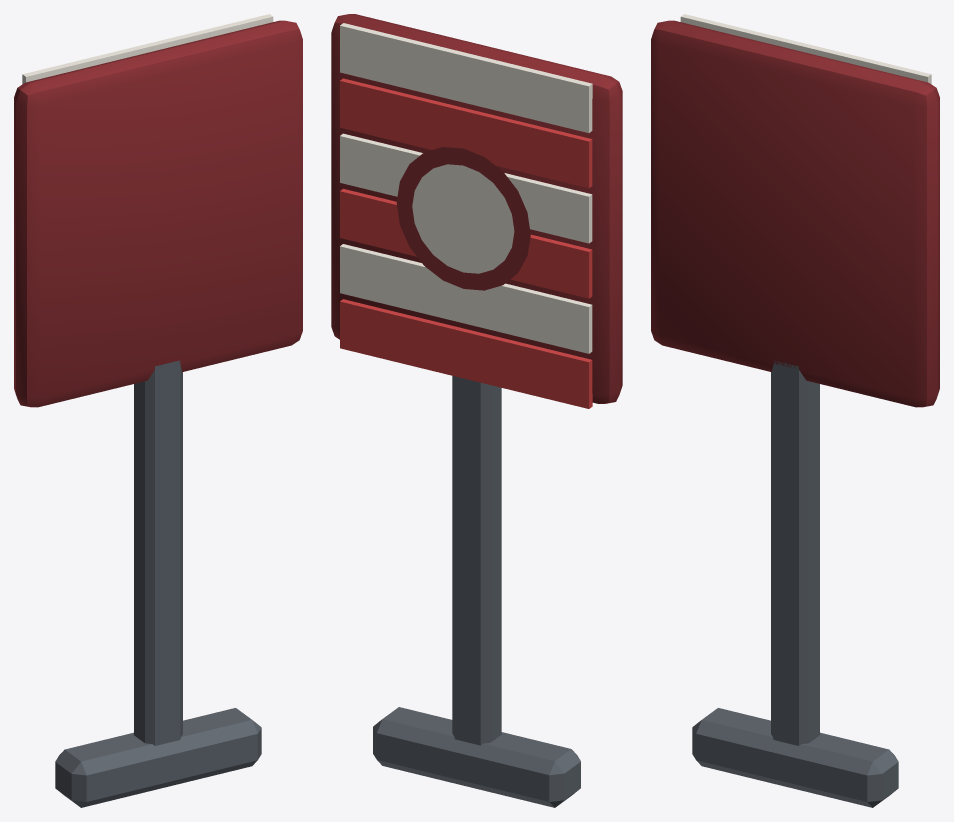
Rendered from stop-board.glb.
The picture shows the model from 3 angles, left to right: view 1: azimuth 30°, elevation 25°; view 2: azimuth 150°, elevation 25°; view 3: azimuth 330°, elevation 25°; orthographic projection.
Parts seen in each view (by area): view 1: stop-board; view 2: stop-board; view 3: stop-board.
Part boxes in pixels (left/top/right/bottom): stop-board: left=14, top=14, right=302, bottom=807; stop-board: left=331, top=14, right=622, bottom=807; stop-board: left=651, top=14, right=939, bottom=807.
Bounding box in the file's own units: 0.9 × 2.2 × 0.15.
